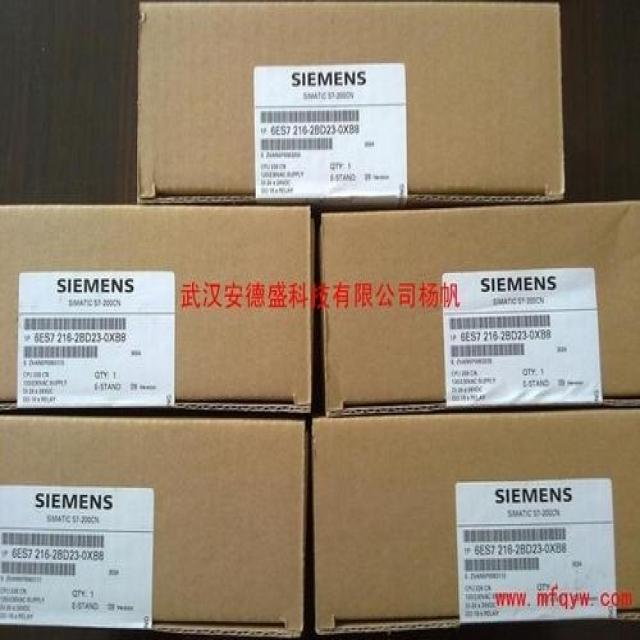box: (137, 0, 564, 203), (312, 406, 640, 633), (0, 413, 308, 638), (321, 200, 640, 416), (0, 203, 312, 415)
